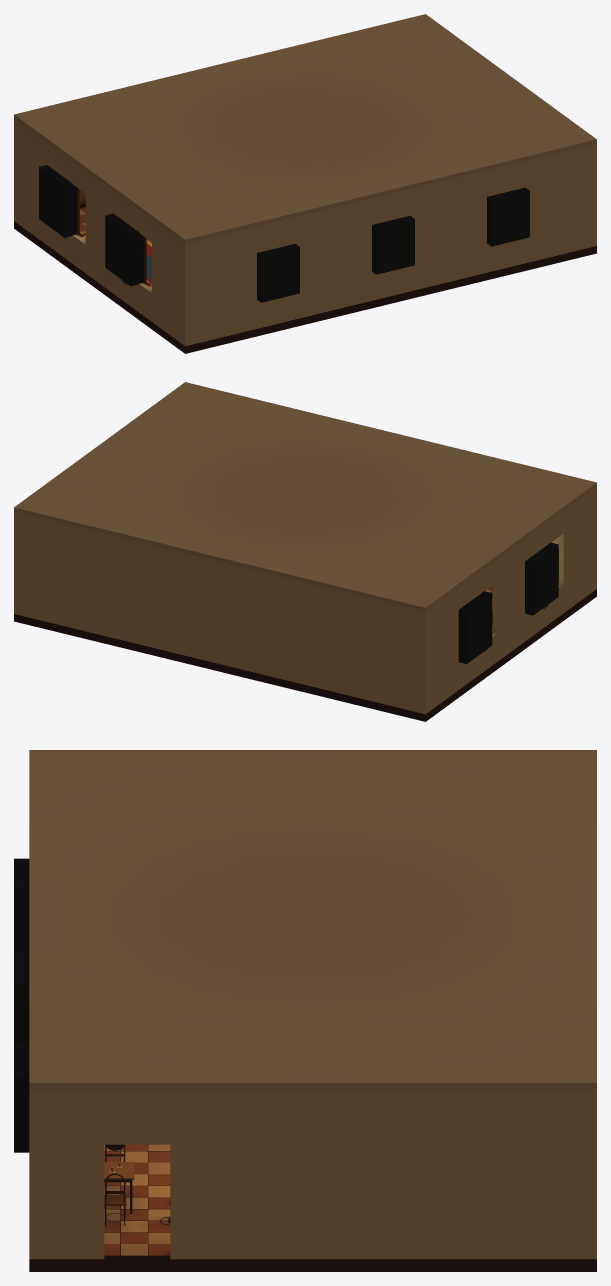
The model's file is kahvehane.18f9031e923f.glb.
3 views of the same model, one above another, from view 1: azimuth 30°, elevation 25°; view 2: azimuth 150°, elevation 25°; view 3: azimuth 270°, elevation 25° (orthographic). The views are drawn at different scales.
Parts seen in each view (by area): view 1: ceiling, wall_S, wall_W, floor; view 2: ceiling, wall_N, wall_W, floor; view 3: ceiling, wall_E, floor, wall_S, wall_N, room.
Part boxes in pixels (box(x1,y1,x2,y2)): ceiling: box(14, 14, 596, 243); wall_S: box(182, 143, 596, 346); wall_W: box(16, 121, 182, 343); floor: box(14, 207, 596, 353); ceiling: box(14, 382, 596, 611); wall_N: box(14, 511, 428, 714); wall_W: box(428, 489, 594, 711); floor: box(14, 586, 596, 721); ceiling: box(29, 750, 596, 1089); wall_E: box(38, 1090, 588, 1259); floor: box(29, 1144, 596, 1271); wall_S: box(14, 858, 38, 1259); wall_N: box(588, 1090, 596, 1259); room: box(104, 1145, 170, 1225).
Bounding box in the file's own units: 14.6 × 3.79 × 10.6.
